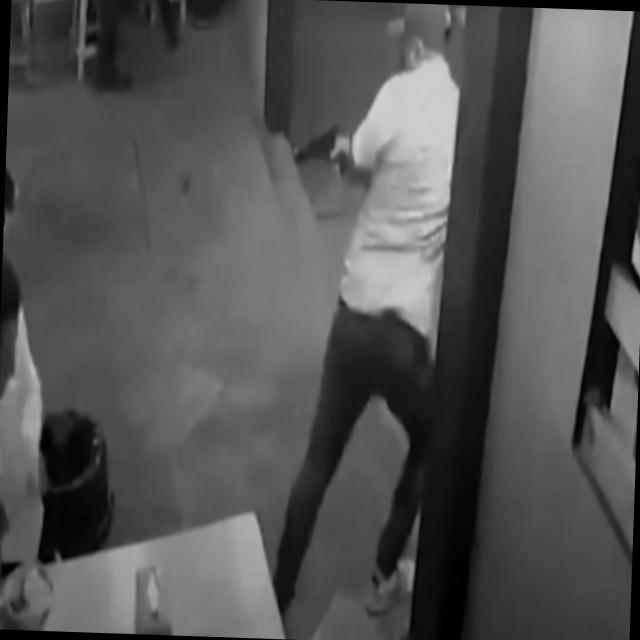gun: (295, 122, 348, 178)
person: (0, 255, 57, 558)
person with a gun: (268, 0, 460, 631)
